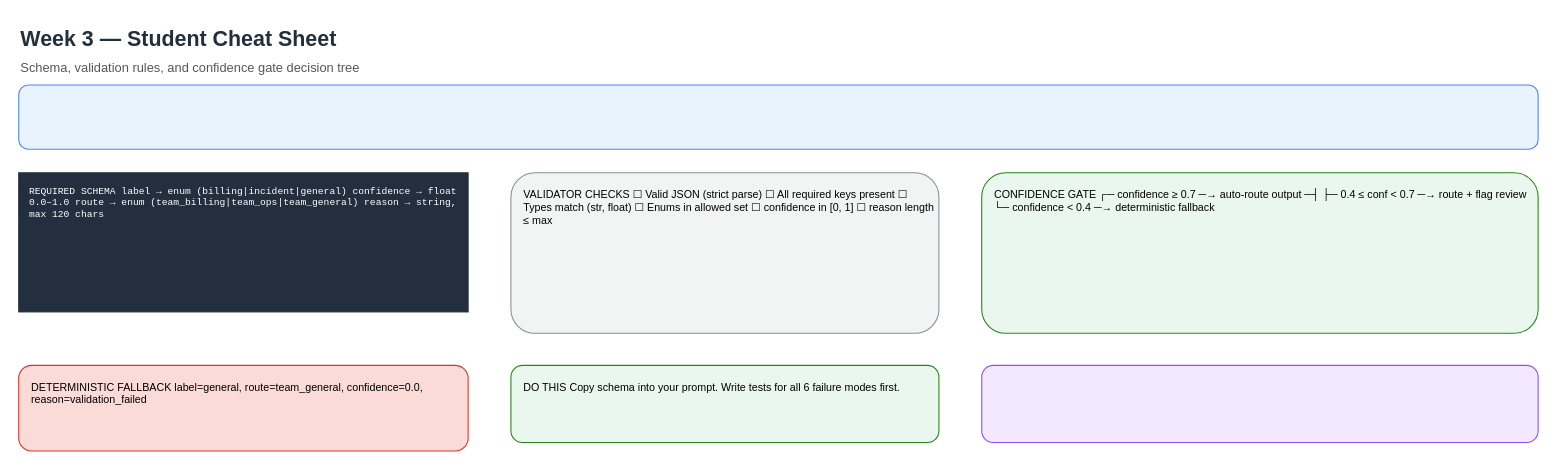
The diagram is 1557 pixels wide and 470 high, and some of its shapes have lost their labels. The shapes that lost their labels are listed below. From the top down, each one's box as (x1, y1, x2, y2) in pixels, then its label:
(18, 84, 1538, 149): YOUR GOAL Quick reference while building Lab 3.1 and 3.2.
(981, 364, 1538, 442): REMEMBER Validate AFTER Bedrock — never trust raw model output.
